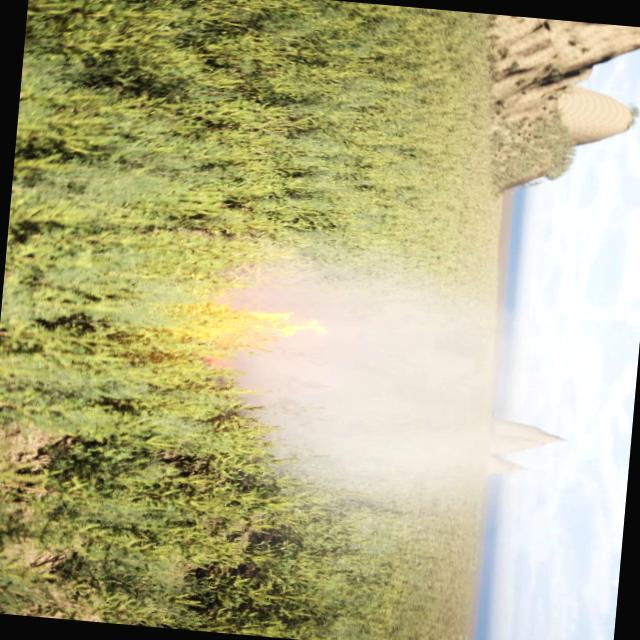fire: (217, 298, 333, 356)
smoke: (208, 238, 594, 548)
